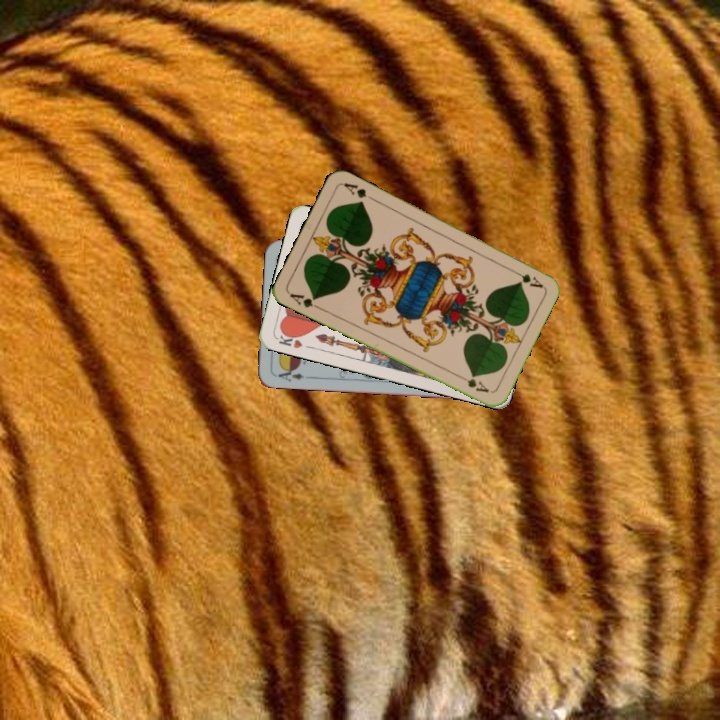EA: (272, 364, 307, 384)
GA: (508, 265, 546, 291), (286, 289, 324, 312)
HK: (275, 327, 305, 351)
